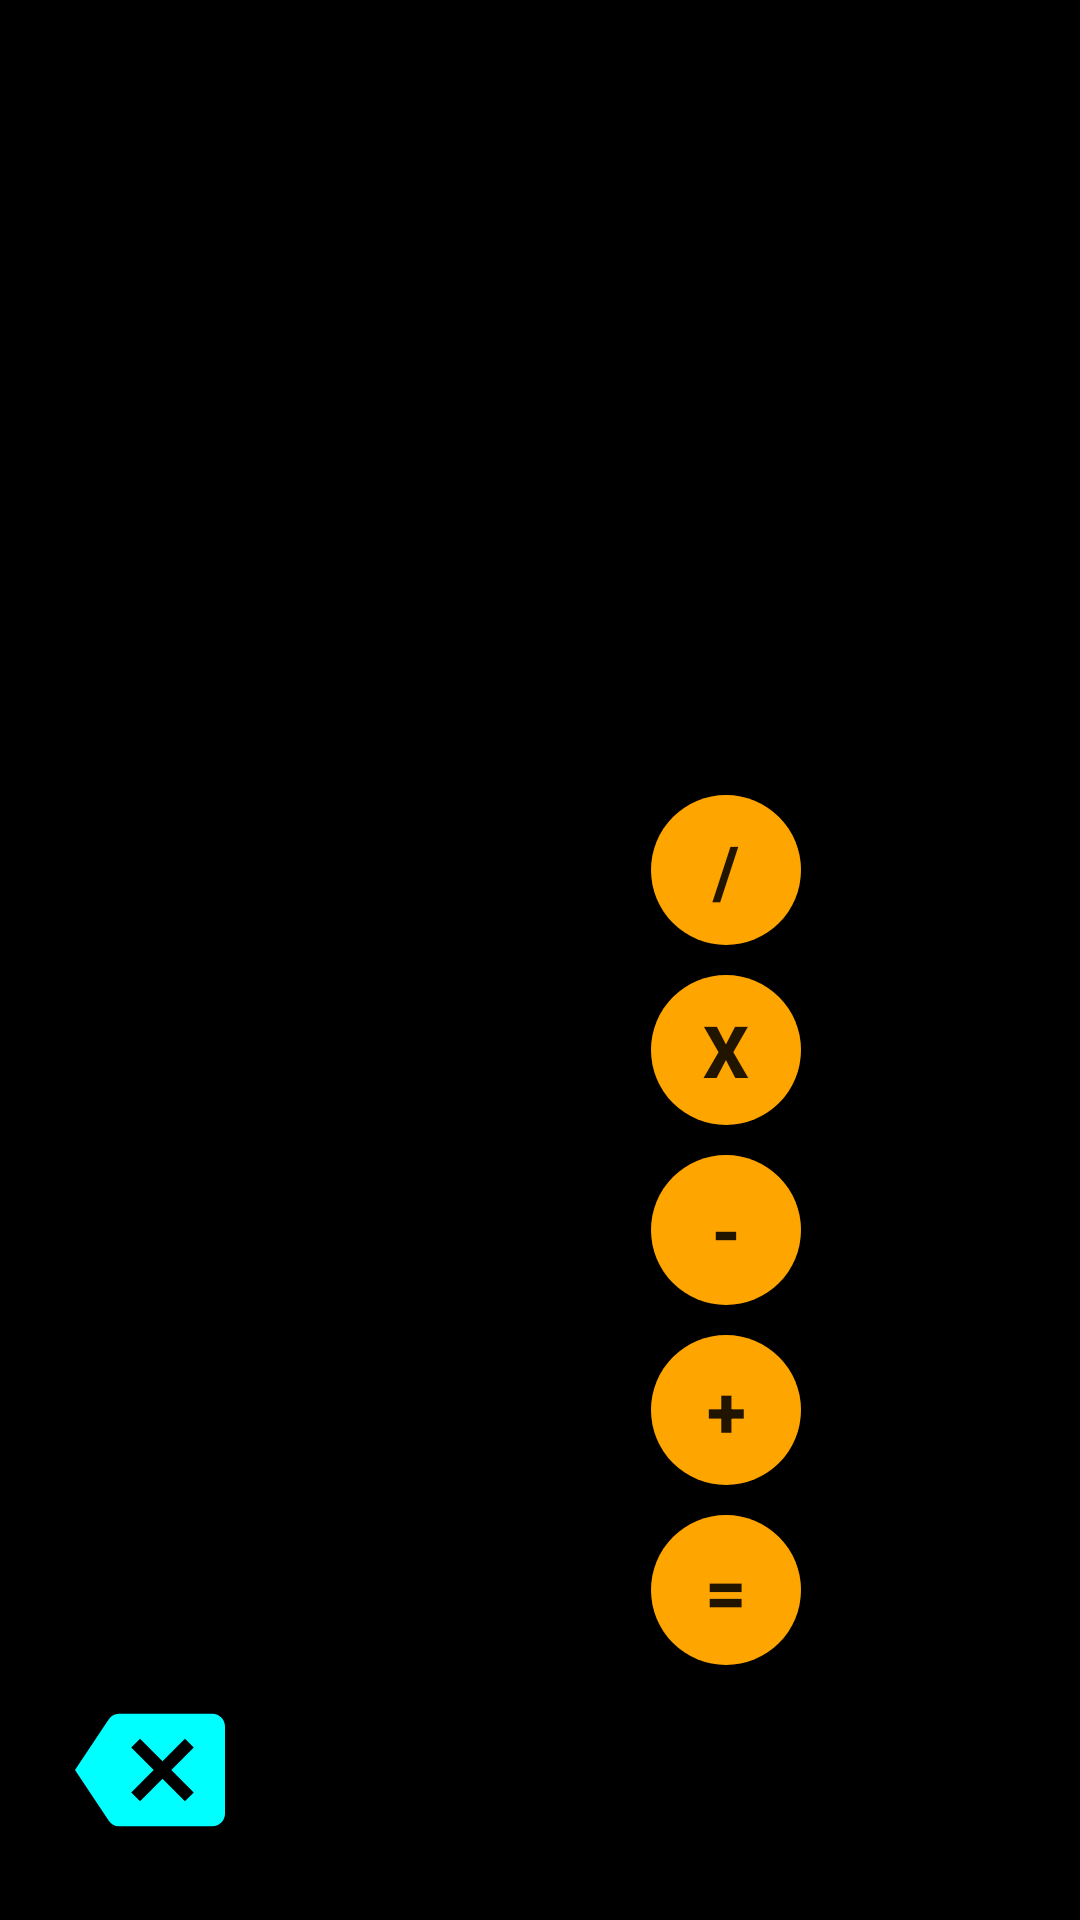

Icon click points for this 1080px×1920px phone screenshot, format point (x, y):
backspace: point (150, 1770)
